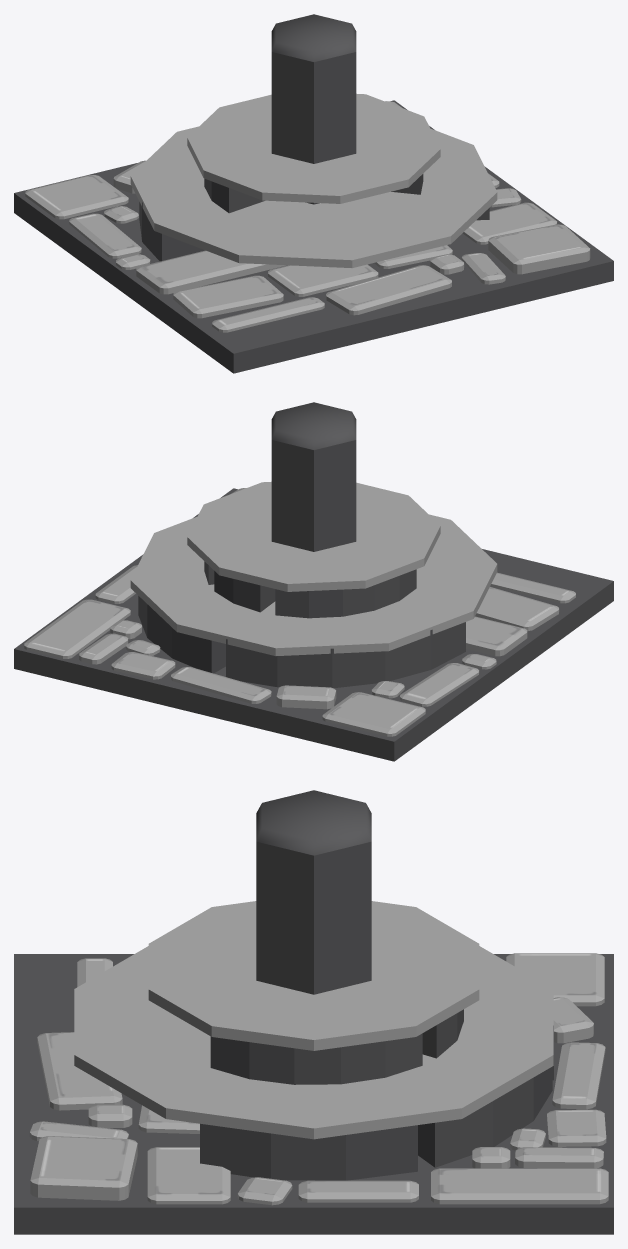
File: Pedestal.fbx
3 renders of one model, top to bottom at view 1: azimuth 30°, elevation 25°; view 2: azimuth 150°, elevation 25°; view 3: azimuth 270°, elevation 25°, orthographic. The views are drawn at different scales.
Parts seen in each view (by area): view 1: polySurface39; view 2: polySurface39; view 3: polySurface39.
Boxes of the visible parts, bbox=[...] form: polySurface39: bbox=[14, 14, 613, 373]; polySurface39: bbox=[14, 402, 613, 761]; polySurface39: bbox=[14, 790, 613, 1234].
Size of the model in its own units: 10 by 5.38 by 10.
